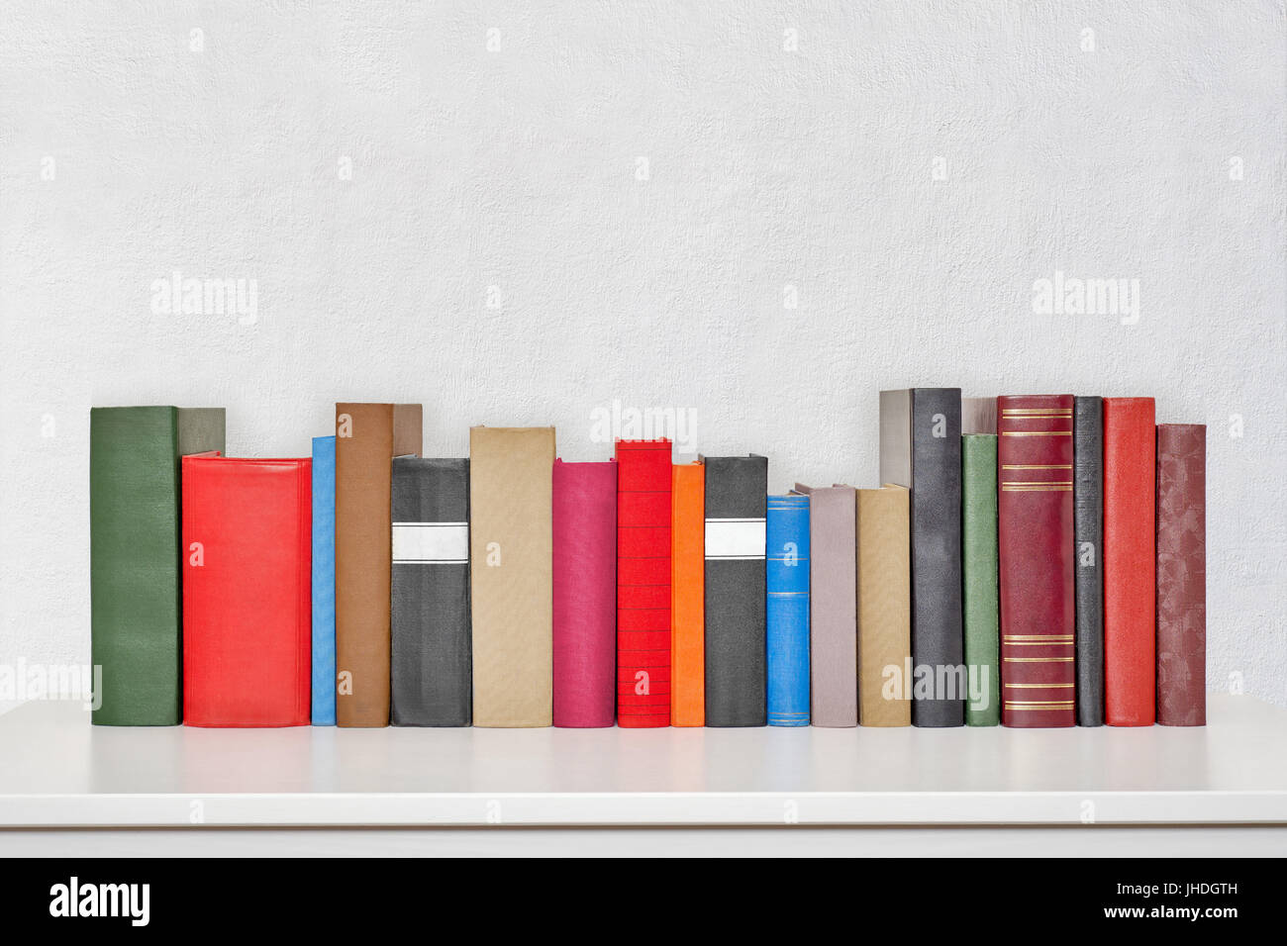not a gesture sign: (391, 457, 471, 725)
